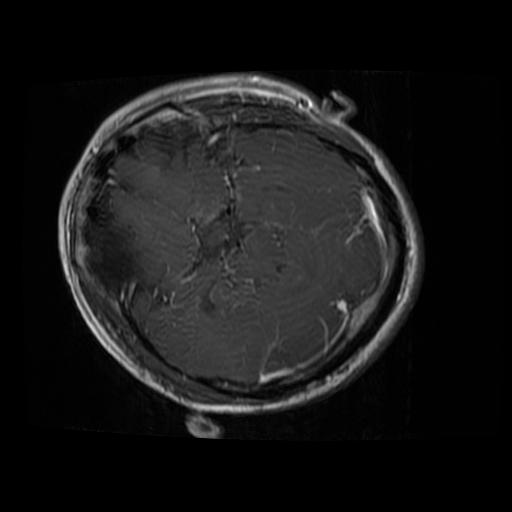glioma: (195, 208, 246, 263)
